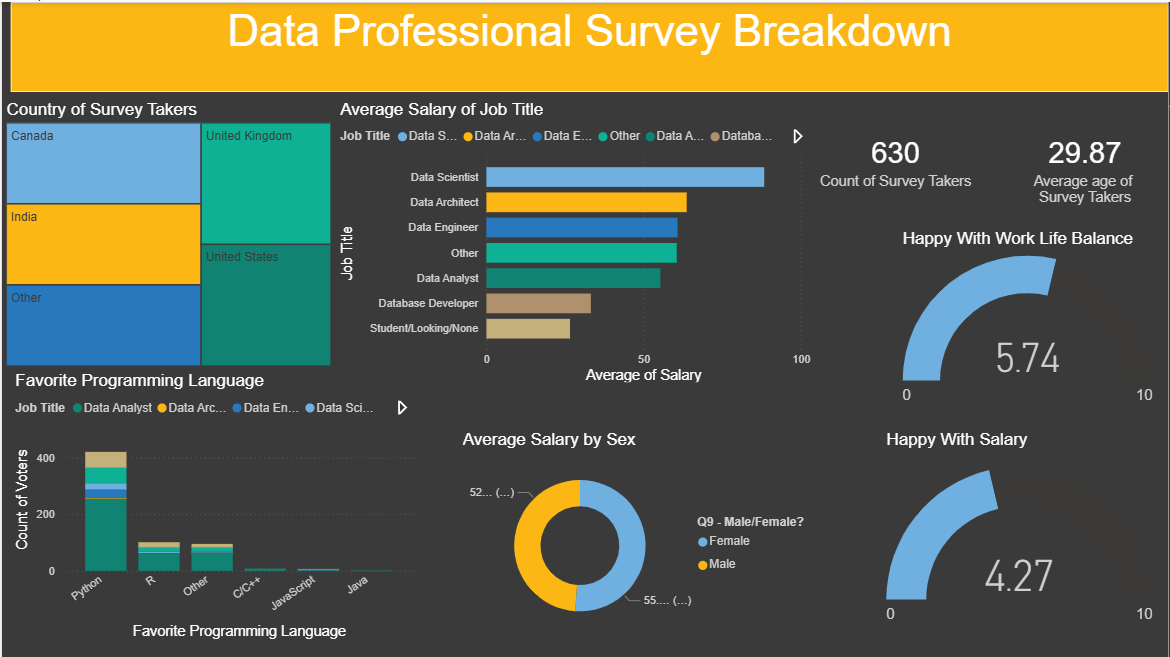

What the dashboard file says about the page in this screenshot:
{"tool":"powerbi","page":{"name":"Page 1","canvas":[1280,720],"ordinal":0},"visuals":[{"type":"textbox","box":[9.6,0,1270.7,98.8],"z":0},{"type":"card","fields":{"Values":["CountNonNull(Data Professional Survey.Unique ID)"]},"box":[874.1,98.8,214.1,149.6],"z":1000},{"type":"card","fields":{"Values":["Avg(Data Professional Survey.Q10 - Current Age)"]},"box":[1097.8,98.8,182.5,149.6],"z":2000},{"type":"barChart","title":"Average Salary of Job Title","fields":{"Category":["Data Professional Survey.Q1 - Which Title Best Fits your Current Role?.1"],"Y":["Avg(Data Professional Survey.Average of Salary)"],"Series":["Data Professional Survey.Q1 - Which Title Best Fits your Current Role?.1"]},"box":[366.4,107,526.9,315.6],"z":3000},{"type":"columnChart","title":"Favorite Programming Language","fields":{"Category":["Data Professional Survey.Q5 - Favorite Programming Language.1.1"],"Y":["CountNonNull(Data Professional Survey.Unique ID)"],"Series":["Data Professional Survey.Q1 - Which Title Best Fits your Current Role?.1"]},"box":[9.6,404.8,448.7,299.1],"z":4000},{"type":"treemap","title":"Country of Survey Takers","fields":{"Values":["Count(Data Professional Survey.Q11 - Which Country do you live in?.1)"],"Group":["Data Professional Survey.Q11 - Which Country do you live in?.1"]},"box":[0,107,366.4,297.8],"z":5000},{"type":"gauge","title":"Happy With Work Life Balance","fields":{"Y":["Avg(Data Professional Survey.Q6 - How Happy are you in your Current Position with the following? (Work/Life Balance))"],"MinValue":["Min(Data Professional Survey.Q6 - How Happy are you in your Current Position with the following? (Work/Life Balance))1"],"MaxValue":["Max(Data Professional Survey.Q6 - How Happy are you in your Current Position with the following? (Work/Life Balance))2"]},"box":[983.9,248.4,284,204.5],"z":6000},{"type":"gauge","title":"Happy With Salary ","fields":{"Y":["Avg(Data Professional Survey.Q6 - How Happy are you in your Current Position with the following? (Salary))"],"MinValue":["Min(Data Professional Survey.Q6 - How Happy are you in your Current Position with the following? (Salary))1"],"MaxValue":["Max(Data Professional Survey.Q6 - How Happy are you in your Current Position with the following? (Salary))2"]},"box":[966,469.3,301.9,234.6],"z":7000},{"type":"donutChart","title":"Average Salary by Sex","fields":{"Category":["Data Professional Survey.Q9 - Male/Female?"],"Y":["Avg(Data Professional Survey.Average of Salary)"]},"box":[500.9,469.3,392.5,234.6],"z":8000}]}

Visuals, with their boxes in screenshot pixels (x1, y1, x2, y2), scaled from the page's 1280x720 canvas onto the 1170x657 screenshot:
textbox: box(9, 0, 1169, 90)
card - CountNonNull(Data Professional Survey.Unique ID): box(799, 90, 995, 227)
card - Avg(Data Professional Survey.Q10 - Current Age): box(1003, 90, 1169, 227)
"Average Salary of Job Title" barChart: box(335, 98, 817, 386)
"Favorite Programming Language" columnChart: box(9, 369, 419, 642)
"Country of Survey Takers" treemap: box(0, 98, 335, 369)
"Happy With Work Life Balance" gauge: box(899, 227, 1159, 413)
"Happy With Salary " gauge: box(883, 428, 1159, 642)
"Average Salary by Sex" donutChart: box(458, 428, 817, 642)
